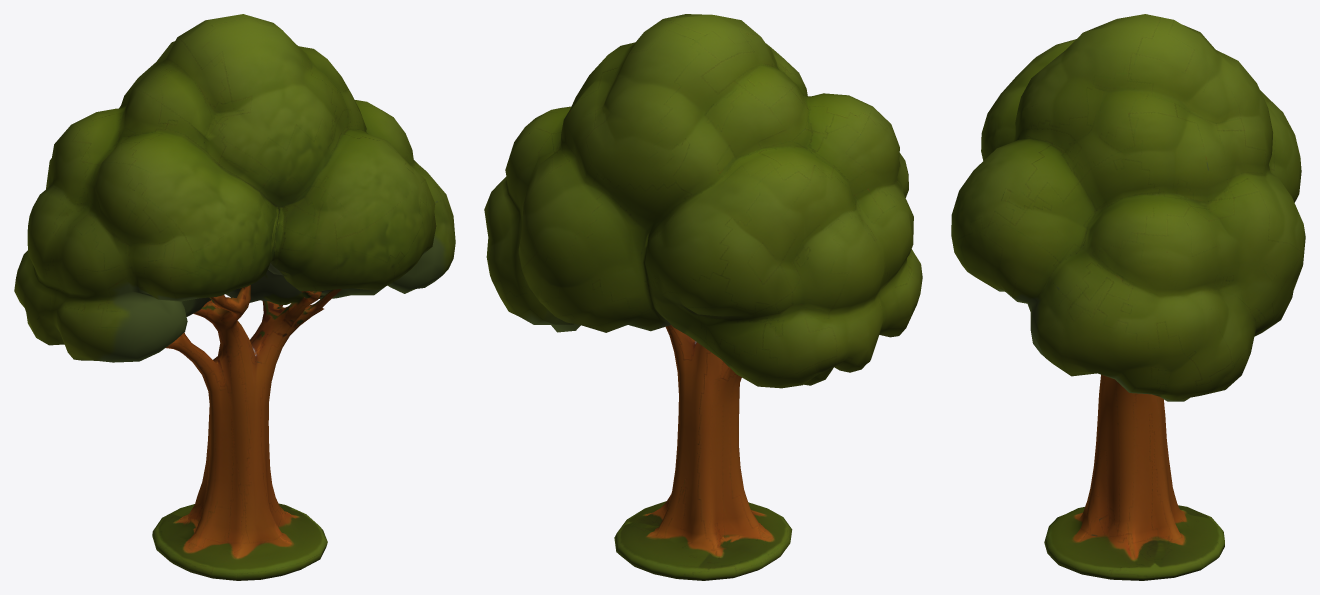
File: Arbol_robusto.fbx
3 views of the same model, side by side, from view 1: azimuth 30°, elevation 25°; view 2: azimuth 150°, elevation 25°; view 3: azimuth 270°, elevation 25° (orthographic).
Parts seen in each view (by area): view 1: Retopo_Arbol high; view 2: Retopo_Arbol high; view 3: Retopo_Arbol high.
Part boxes in pixels (x1,y1,x2,y2): Retopo_Arbol high: (14, 14, 455, 580); Retopo_Arbol high: (484, 14, 922, 580); Retopo_Arbol high: (951, 14, 1305, 580).
Size of the model in its own units: 147 by 189 by 114.
Materials: 1 (1 with a texture image).
